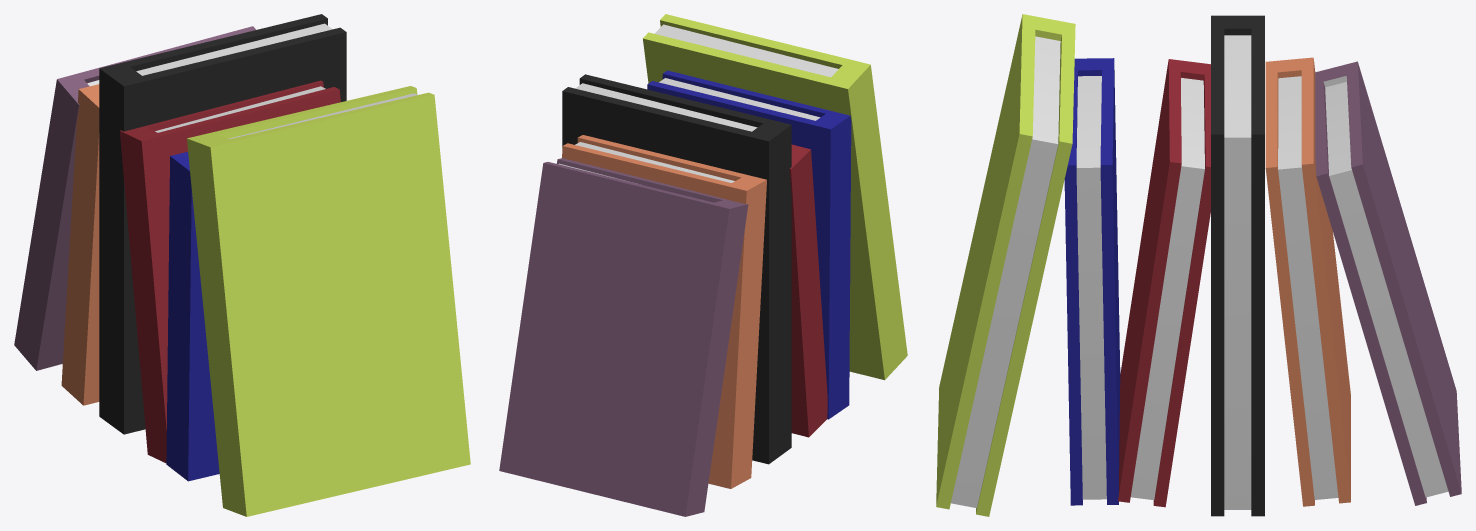
File: Book.fbx
The picture shows the model from 3 angles, left to right: view 1: azimuth 30°, elevation 25°; view 2: azimuth 150°, elevation 25°; view 3: azimuth 270°, elevation 25°; orthographic projection. The views are drawn at different scales.
Visible parts, largest first — view 1: Book4.001; view 2: Book4.001; view 3: Book4.001.
Boxes of the visible parts, left/top/right/bottom form: Book4.001: left=14, top=14, right=470, bottom=516; Book4.001: left=499, top=14, right=907, bottom=516; Book4.001: left=936, top=14, right=1461, bottom=516.
Size of the model in its own units: 28.45 by 42.84 by 52.43.
